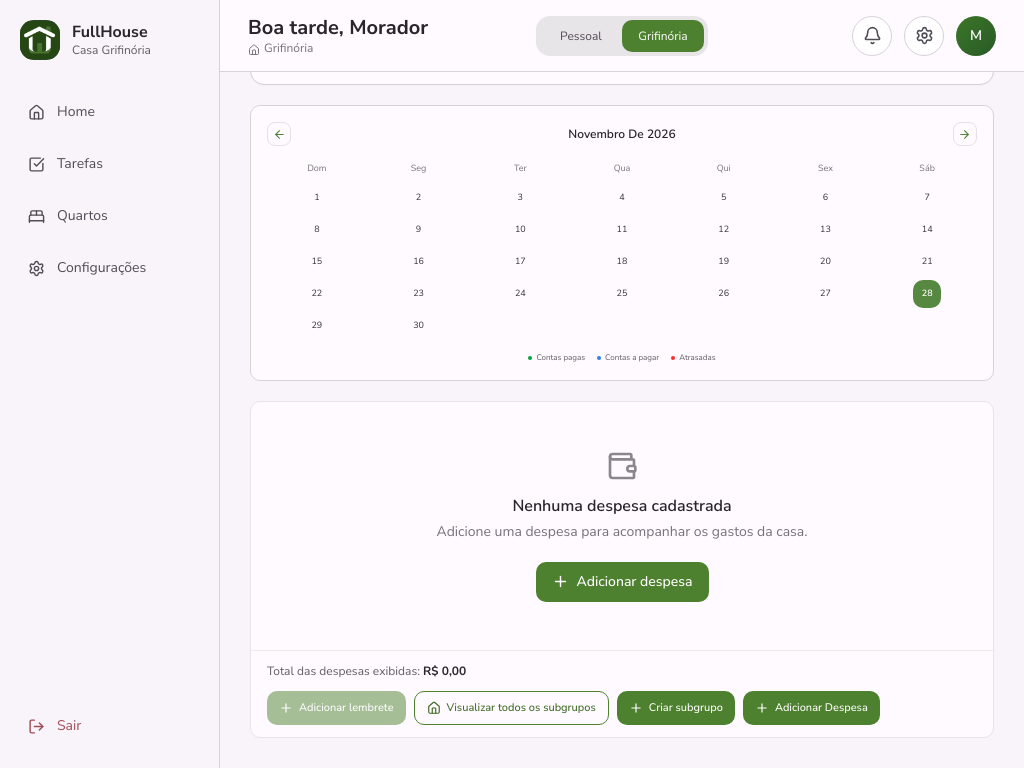
Test: FinancePage expense CRUD › shows a server validation error in the expense form
(page scrolled)
expect the heading "Nenhuma despesa cadastrada" is shown: met, box [512,494,732,516]
Click the button "Adicionar despesa": (622,582) [536,562,708,602]
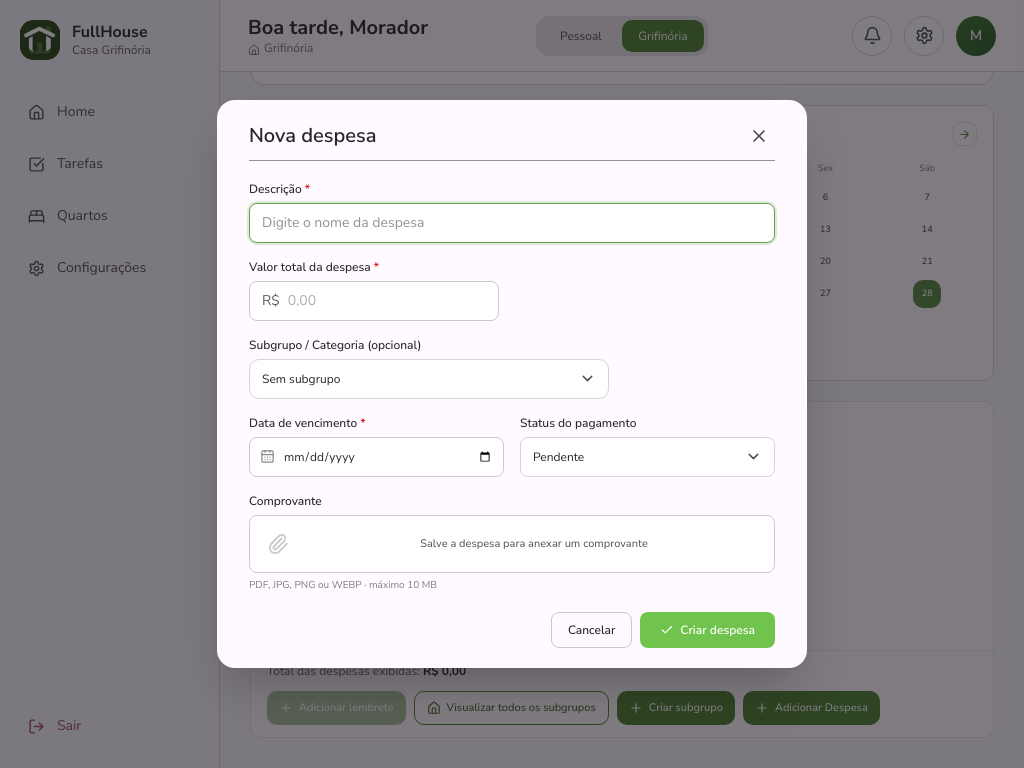
In the field labelled "Descrição *": (512,223) [249,203,775,243], type "Internet"
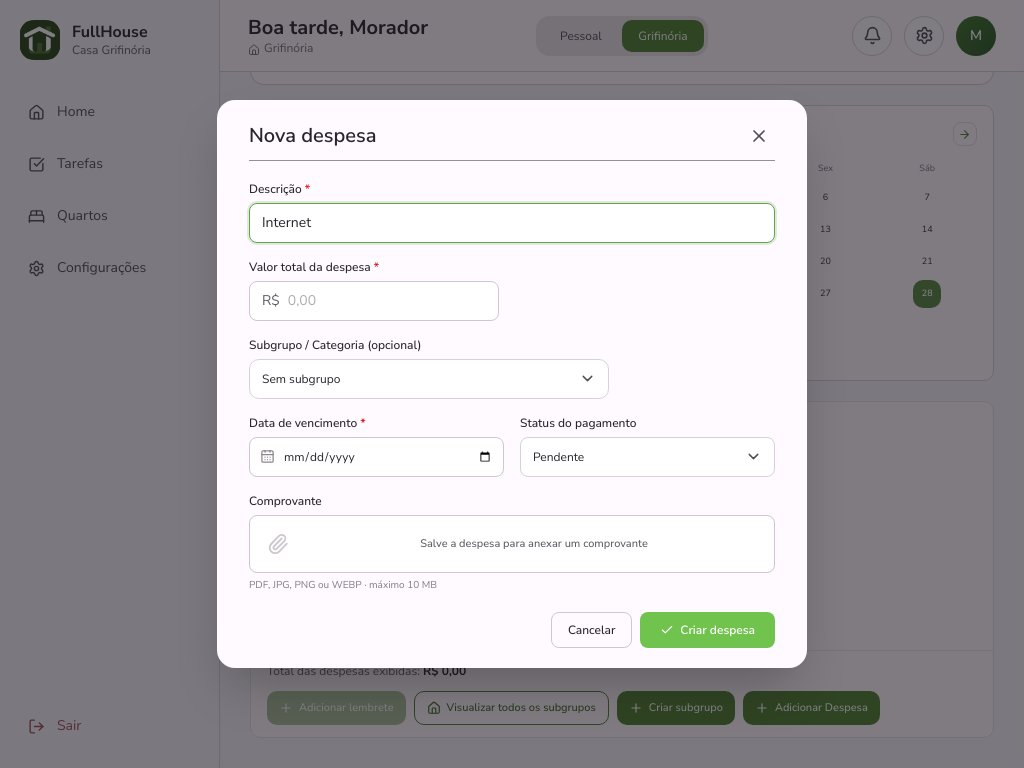
In the field labelled "Valor total da despesa * R$": (387,301) [288,291,486,311], type "120,00"
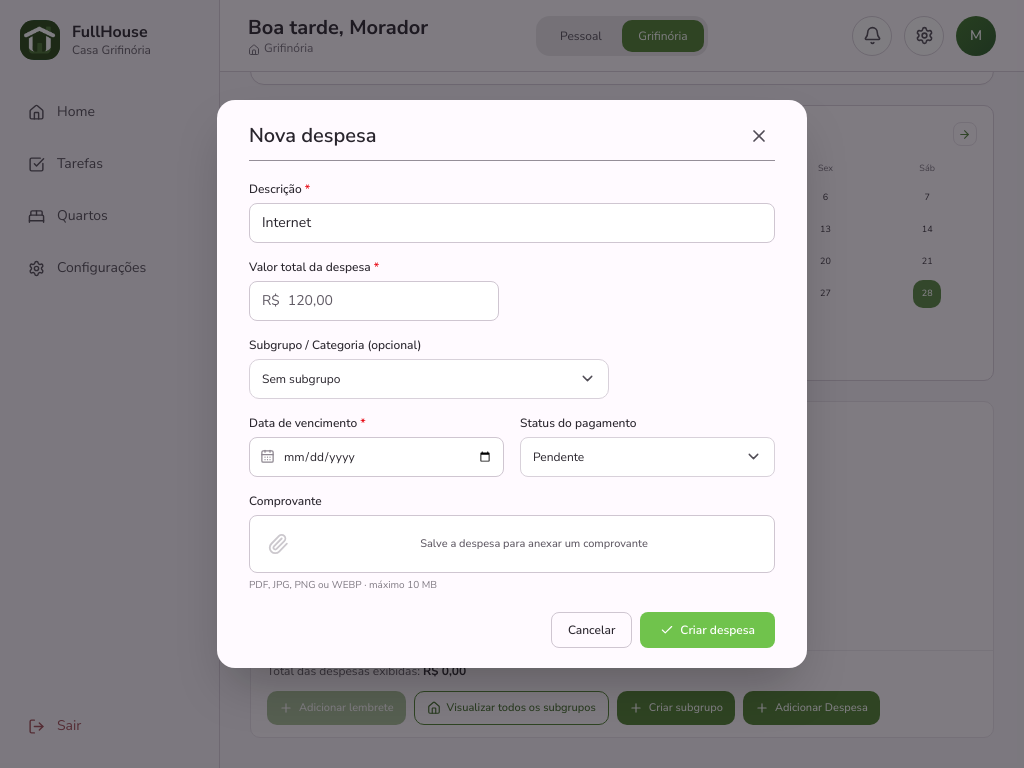
In the date field labelled "Data de vencimento *": (388,457) [283,449,493,465], type "2026-10-12"
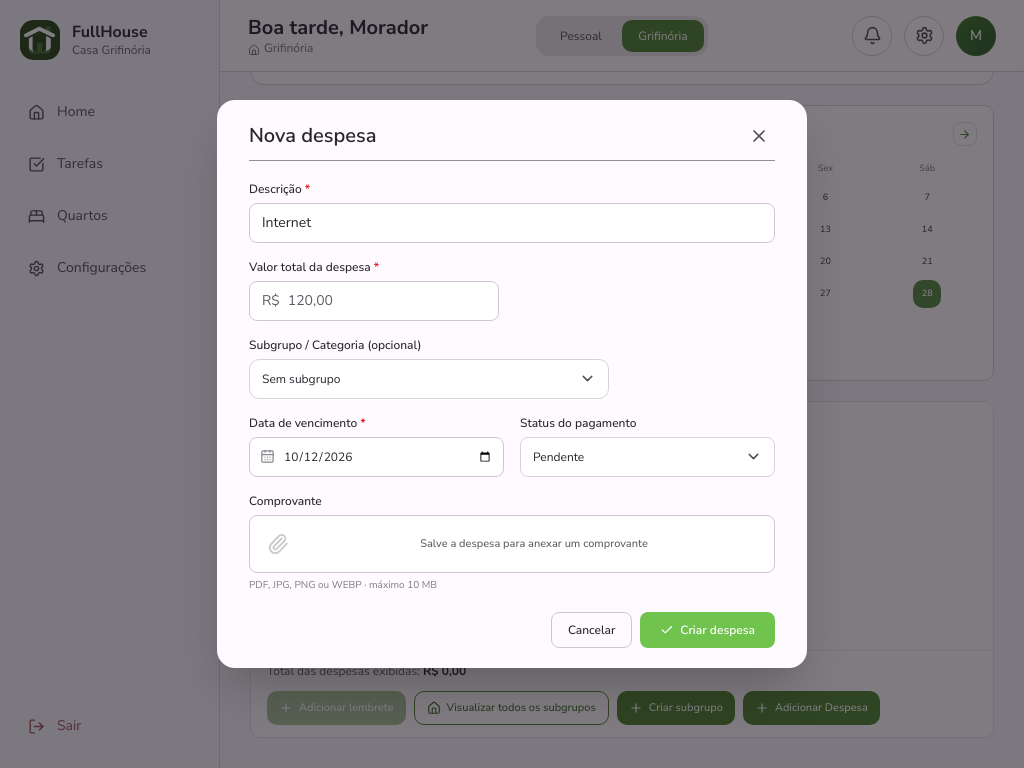
Click the button "Criar despesa": (708,630) [640,612,775,648]
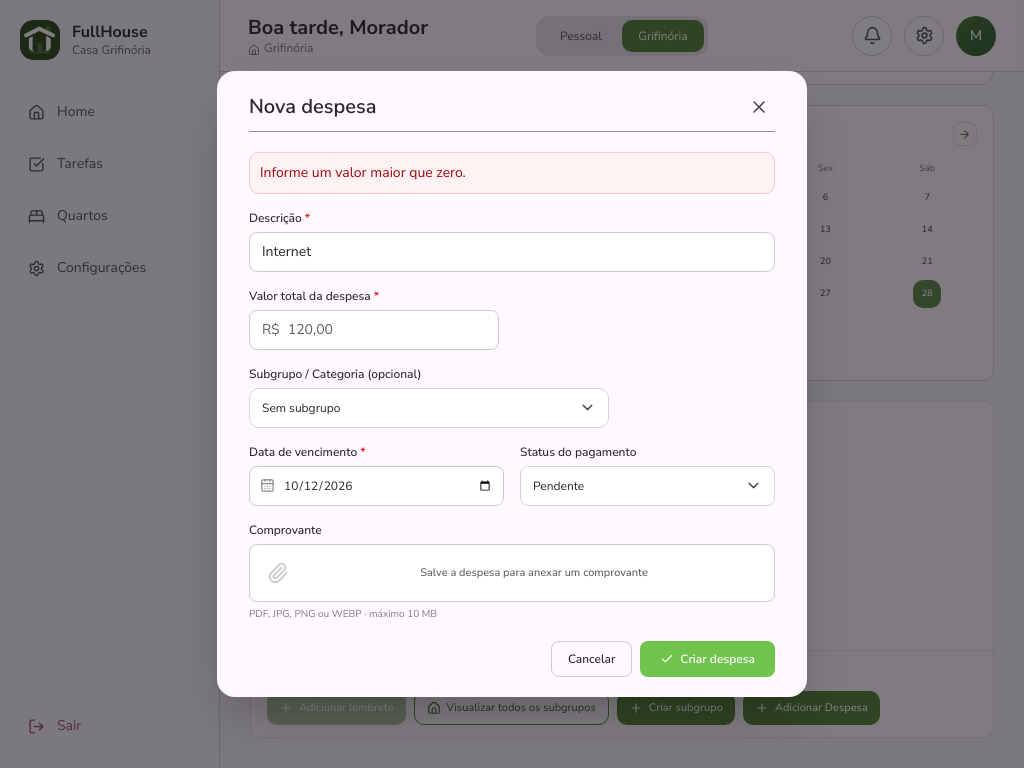
expect the message reads "Informe um valor maior que zero.": met, box [260,163,466,182]
